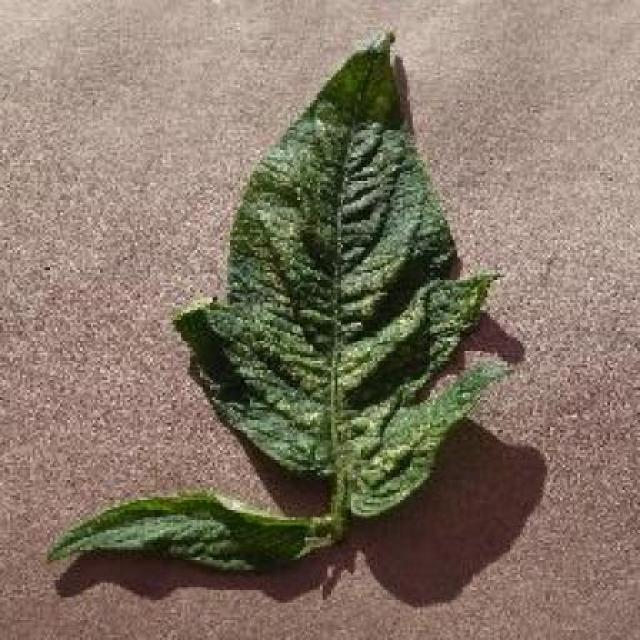Spider Mites: (175, 33, 505, 517)
